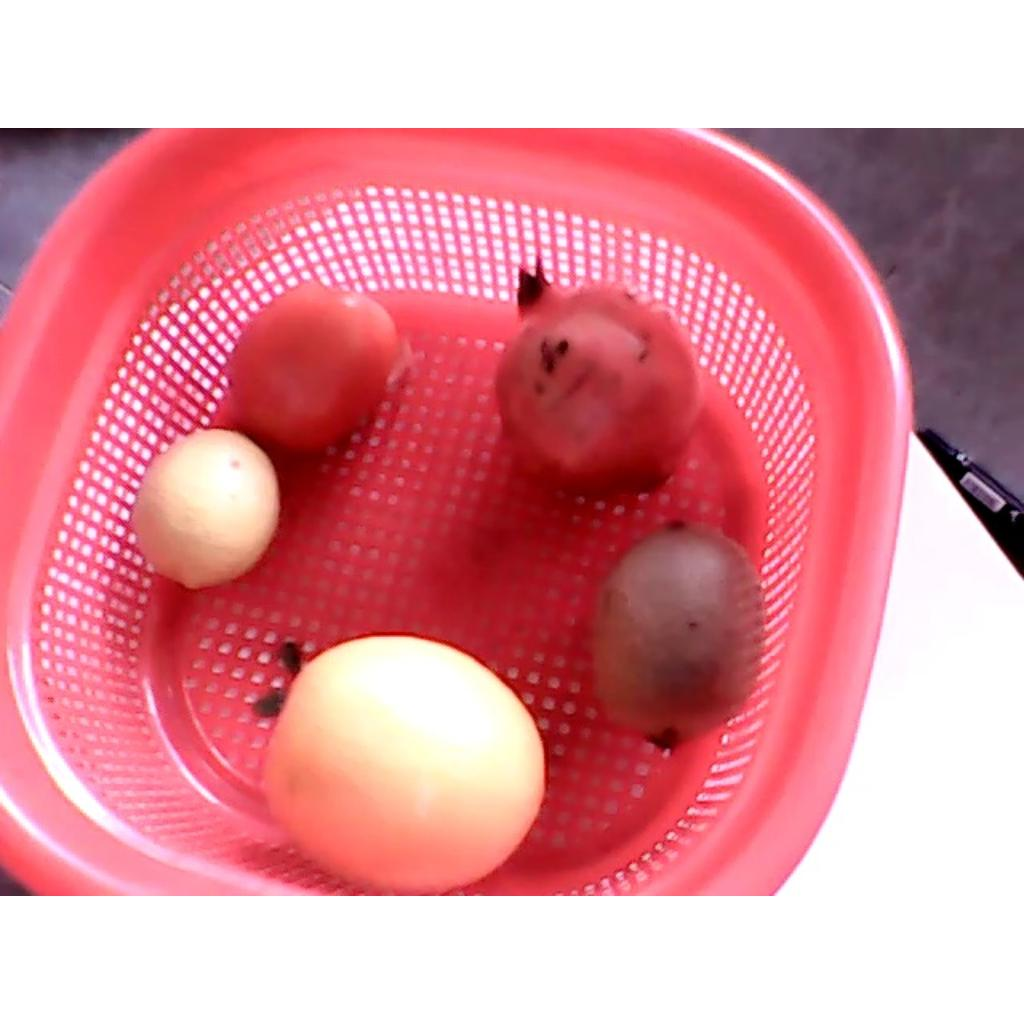kiwi: (595, 516, 760, 753)
lemon: (136, 429, 280, 586)
orange: (255, 636, 546, 894)
pomegranate: (496, 257, 698, 498)
tomato: (227, 279, 395, 453)
